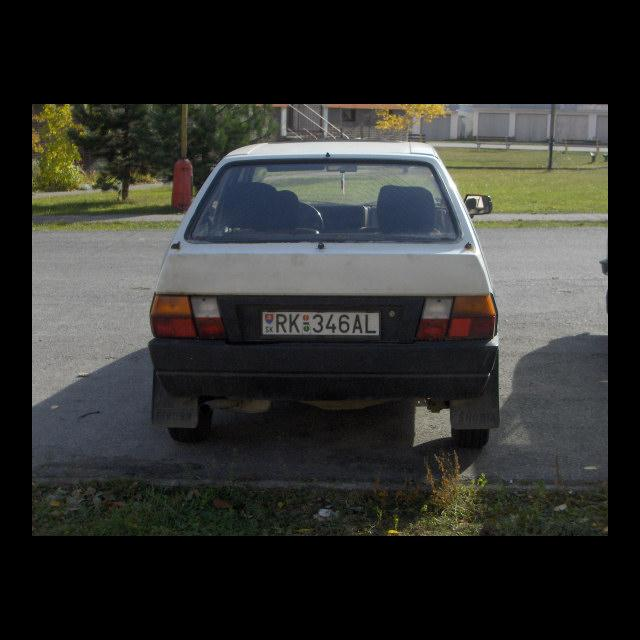Plate: (259, 307, 382, 338)
